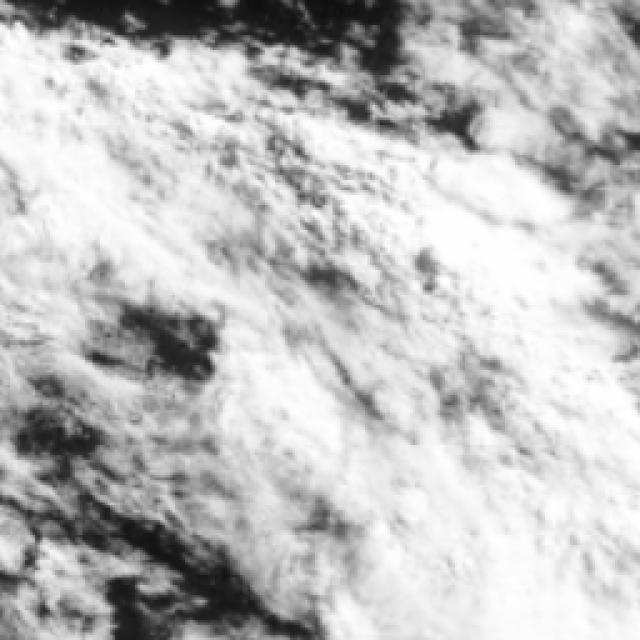CB: (394, 477, 640, 640), (490, 358, 640, 548), (0, 73, 151, 240), (406, 225, 586, 348), (244, 358, 376, 490)
